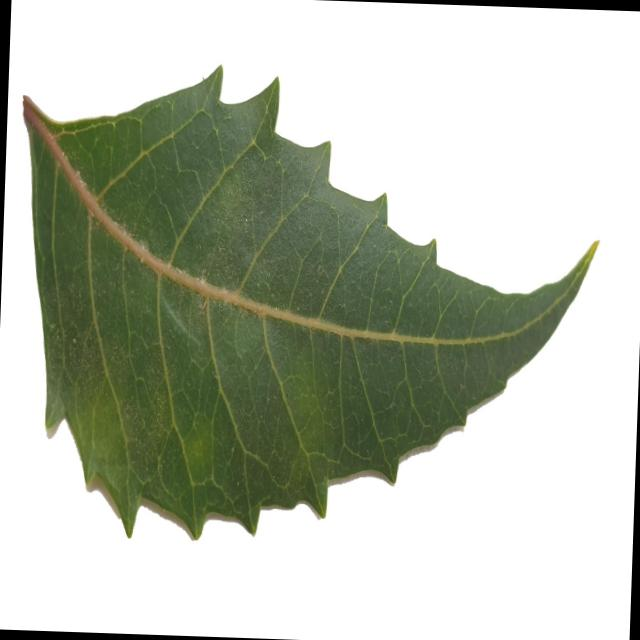Medicinal-Arive Dantu: (7, 32, 604, 558)
